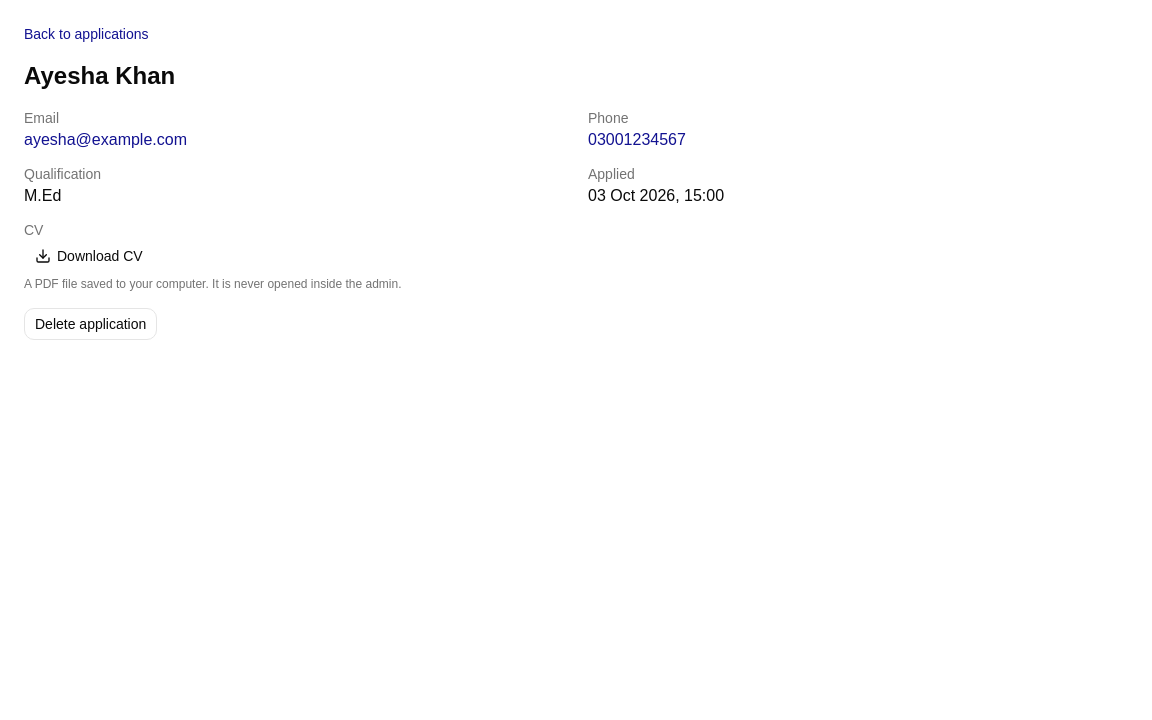
ApplicationDetail › asks for confirmation before deleting, and explains what happens
Click the button "Delete application": (91, 324) x1=24 y1=308 x2=157 y2=340
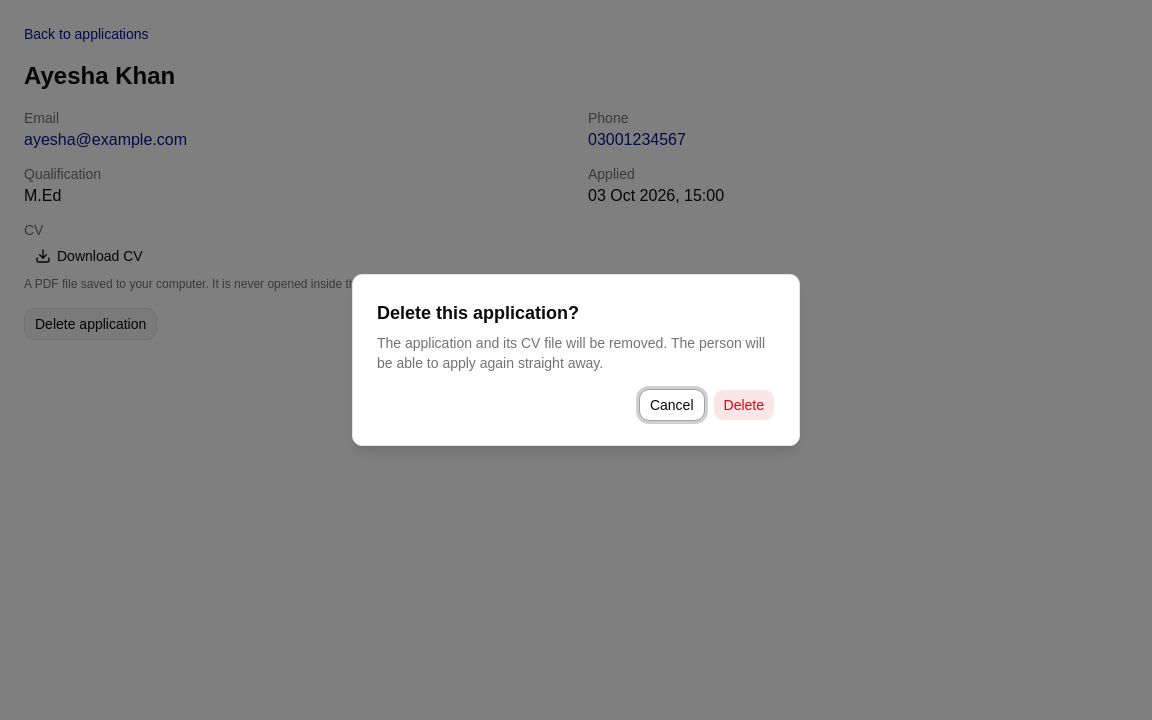
expect the heading "Delete this application?" is shown: met, box x1=377 y1=303 x2=579 y2=323
expect the text "CV file will be removed" is shown: met, box x1=377 y1=335 x2=765 y2=371
expect the button "Cancel" is shown: met, box x1=639 y1=389 x2=704 y2=421
